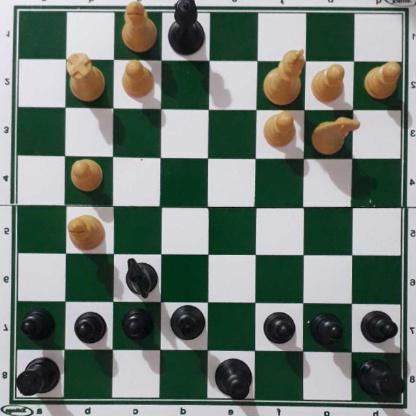black-bishop: (167, 304, 206, 342)
black-king: (212, 358, 253, 401)
black-knight: (123, 259, 159, 301)
black-pawn: (360, 311, 396, 347), (262, 314, 295, 349), (20, 312, 54, 344), (73, 312, 105, 346), (121, 310, 153, 344), (311, 315, 343, 348)
black-queen: (166, 0, 205, 58)
black-rook: (13, 358, 61, 400), (358, 361, 404, 403)
white-bishop: (121, 2, 154, 57), (66, 216, 103, 253)
white-king: (263, 51, 303, 106)
white-knight: (311, 116, 361, 157)
white-pawn: (310, 64, 347, 105), (363, 64, 400, 101), (120, 60, 154, 100), (67, 158, 104, 194), (262, 113, 296, 150)
white-rook: (63, 53, 105, 103)
